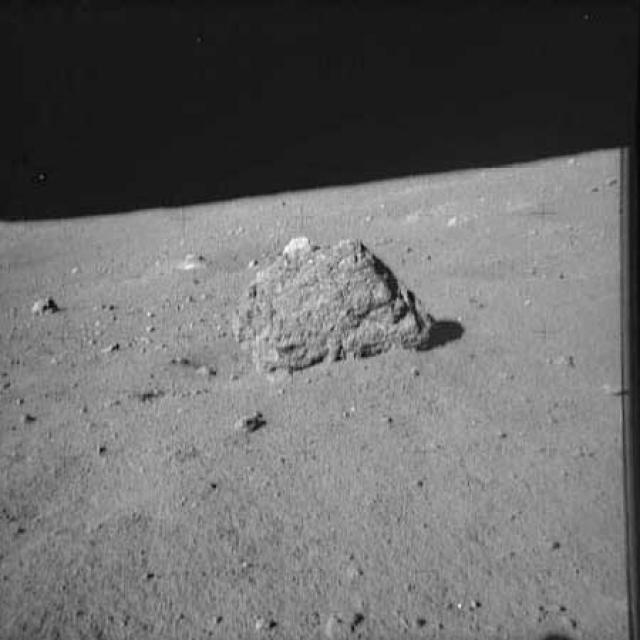rock: (229, 216, 459, 389), (146, 244, 215, 283), (320, 603, 373, 639), (232, 406, 275, 437), (22, 290, 65, 316), (595, 376, 631, 404), (98, 335, 132, 358), (237, 616, 278, 634), (551, 348, 576, 376), (15, 405, 41, 429), (536, 536, 568, 555), (190, 361, 214, 378)
